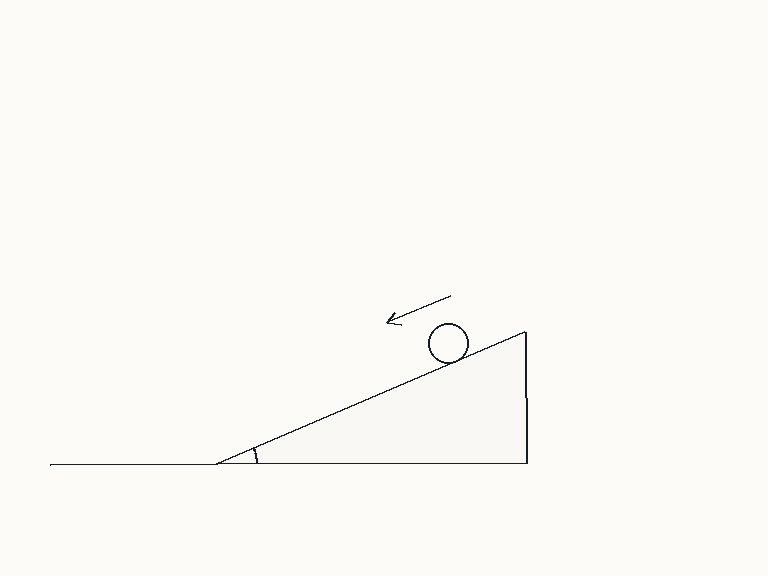ball: (426, 321, 470, 365)
ramp: (215, 330, 527, 465)
